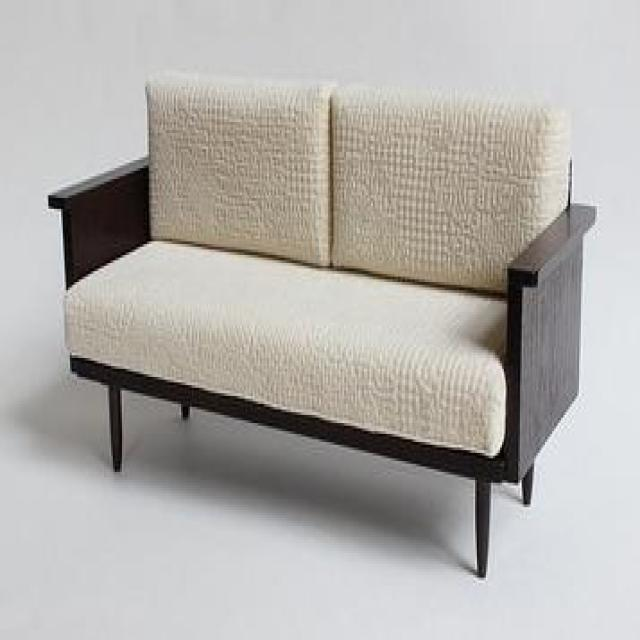sofa: (45, 76, 598, 583)
